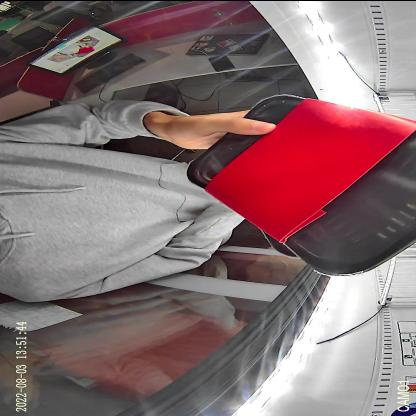red: (185, 92, 416, 275)
undefined: (256, 228, 302, 258)
